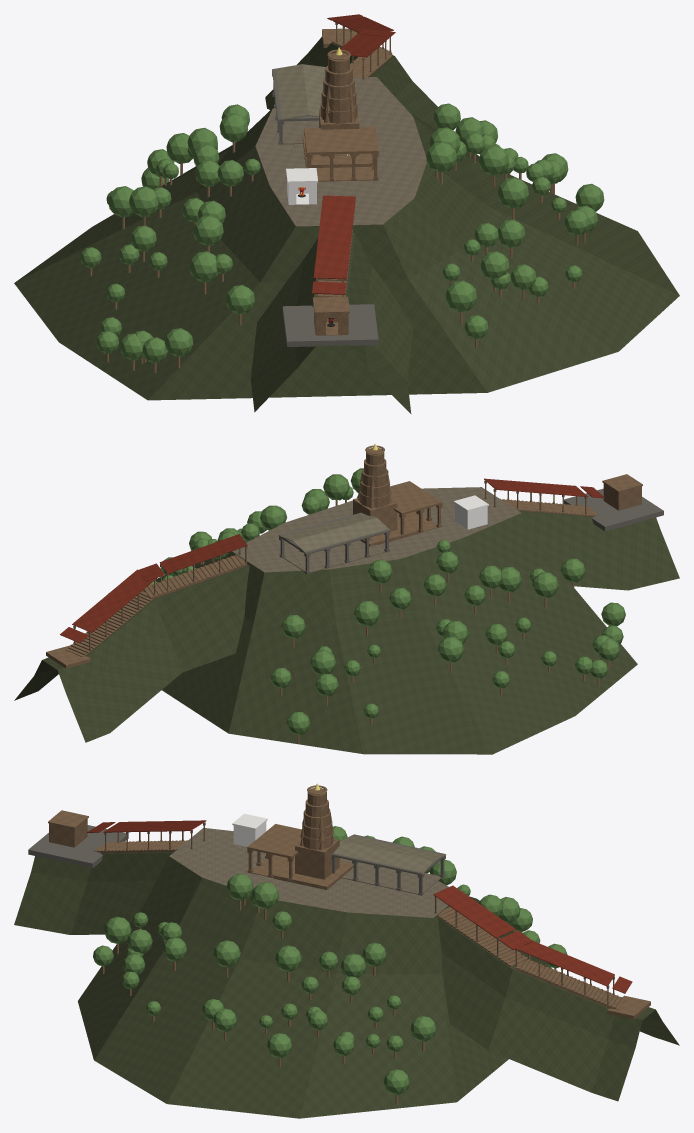
Rendered from mahur_renuka_kshetra_full.glb.
3 renders of one model, top to bottom at view 1: azimuth 30°, elevation 25°; view 2: azimuth 150°, elevation 25°; view 3: azimuth 270°, elevation 25°, orthographic. The views are drawn at different scales.
Parts seen in each view (by area): view 1: Mahur_Forested_Ridge, Mahur_South_Approach_Slope, Mandapa, Parashurama_Lower_Terrace, Mahur_North_Approach_Slope, Mahur_Multipurpose_Sheet_Roof, Mahur_Multipurpose_Sheet_Roof.001, Mahur_Canopy_50, Mahur_Canopy_80, Mahur_Canopy_66, Mahur_Hilltop_Platform, Mahur_Canopy_34 (+17 smaller); view 2: Mahur_Forested_Ridge, Mahur_North_Approach_Slope, Mahur_South_Approach_Slope, Mandapa, Parashurama_Lower_Terrace, Mahur_Multipurpose_Sheet_Roof, Mahur_Multipurpose_Hall_Floor, Mahur_Multipurpose_Sheet_Roof.001, Garbhagriha, Mahur_Canopy_61, Mahur_Multipurpose_Hall_Roof, Mahur_Canopy_6 (+12 smaller); view 3: Mahur_Forested_Ridge, Mahur_North_Approach_Slope, Mahur_South_Approach_Slope, Mandapa, Parashurama_Lower_Terrace, Mahur_Multipurpose_Sheet_Roof.001, Mahur_Multipurpose_Hall_Floor, Garbhagriha, Mahur_Hilltop_Platform, Mahur_Multipurpose_Sheet_Roof, Mahur_Canopy_80, Mahur_Canopy_6 (+11 smaller).
Part boxes in pixels (x1,y1,x2,y2): Mahur_Forested_Ridge: (14, 77, 679, 400); Mahur_South_Approach_Slope: (250, 233, 413, 413); Mandapa: (304, 126, 378, 181); Parashurama_Lower_Terrace: (282, 304, 378, 346); Mahur_North_Approach_Slope: (265, 36, 439, 129); Mahur_Multipurpose_Sheet_Roof: (272, 64, 308, 120); Mahur_Multipurpose_Sheet_Roof.001: (301, 64, 325, 116); Mahur_Canopy_50: (445, 280, 476, 324); Mahur_Canopy_80: (497, 177, 528, 219); Mahur_Canopy_66: (426, 141, 456, 184); Mahur_Hilltop_Platform: (302, 135, 372, 167); Mahur_Canopy_34: (479, 145, 509, 187); Mahur_Forested_Ridge: (156, 487, 637, 754); Mahur_North_Approach_Slope: (14, 564, 249, 742); Mahur_South_Approach_Slope: (518, 510, 679, 590); Mandapa: (390, 481, 442, 537); Parashurama_Lower_Terrace: (564, 488, 663, 531); Mahur_Multipurpose_Sheet_Roof: (292, 517, 390, 553); Mahur_Multipurpose_Hall_Floor: (283, 540, 385, 572); Mahur_Multipurpose_Sheet_Roof.001: (278, 513, 376, 540); Garbhagriha: (353, 498, 397, 531); Mahur_Canopy_61: (532, 572, 558, 608); Mahur_Multipurpose_Hall_Roof: (279, 512, 389, 554); Mahur_Canopy_6: (323, 474, 349, 505); Mahur_Forested_Ridge: (77, 828, 551, 1118); Mahur_North_Approach_Slope: (438, 917, 679, 1101); Mahur_South_Approach_Slope: (14, 852, 173, 934); Mandapa: (247, 824, 301, 881); Parashurama_Lower_Terrace: (28, 825, 128, 868); Mahur_Multipurpose_Sheet_Roof.001: (332, 840, 434, 874); Mahur_Multipurpose_Hall_Floor: (341, 861, 441, 894); Garbhagriha: (295, 839, 339, 879); Mahur_Hilltop_Platform: (273, 857, 353, 889); Mahur_Multipurpose_Sheet_Roof: (341, 834, 446, 860); Mahur_Canopy_80: (213, 940, 240, 977); Mahur_Canopy_6: (251, 882, 278, 919).
Size of the model in its own units: 72.56 by 31.23 by 88.27.
Materials: 33 (5 with a texture image).
